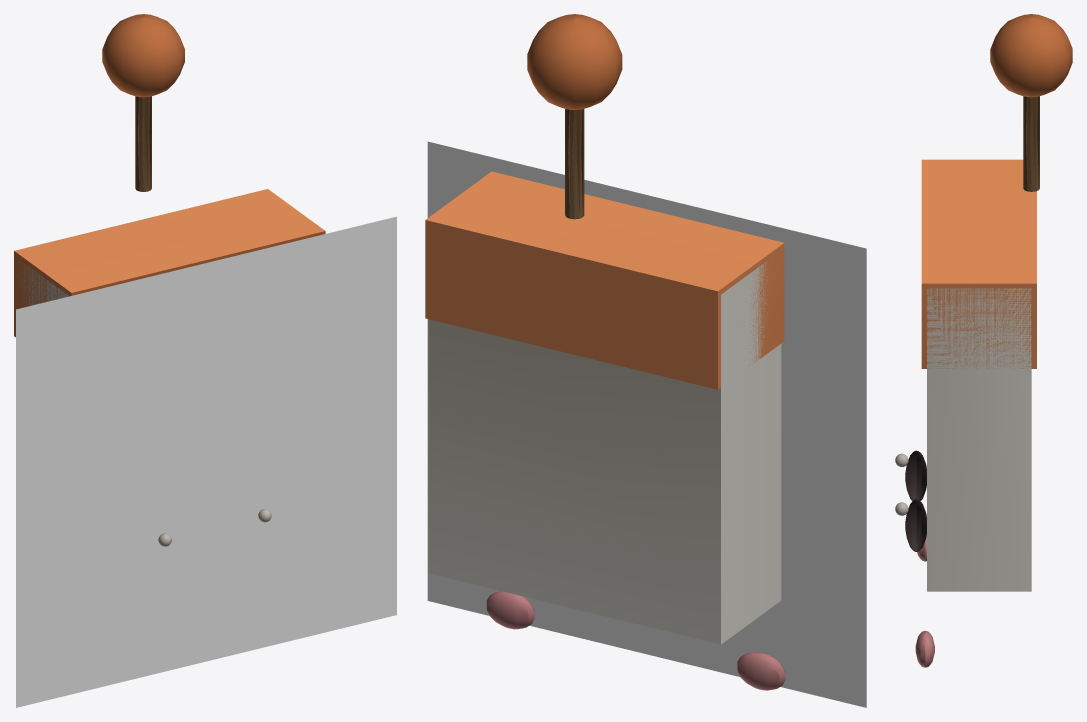
The model's file is pcb928250.glb.
3 renders of one model, left to right at view 1: azimuth 30°, elevation 25°; view 2: azimuth 150°, elevation 25°; view 3: azimuth 270°, elevation 25°, orthographic. The views are drawn at different scales.
Visible parts, largest first — view 1: pet_pcb928250; view 2: pet_pcb928250; view 3: pet_pcb928250.
Part boxes in pixels (<box>): pet_pcb928250: <box>14,14,396,707</box>; pet_pcb928250: <box>425,14,866,707</box>; pet_pcb928250: <box>895,14,1072,667</box>.
Bounding box in the file's own units: 0.42 × 0.63 × 0.1698.
